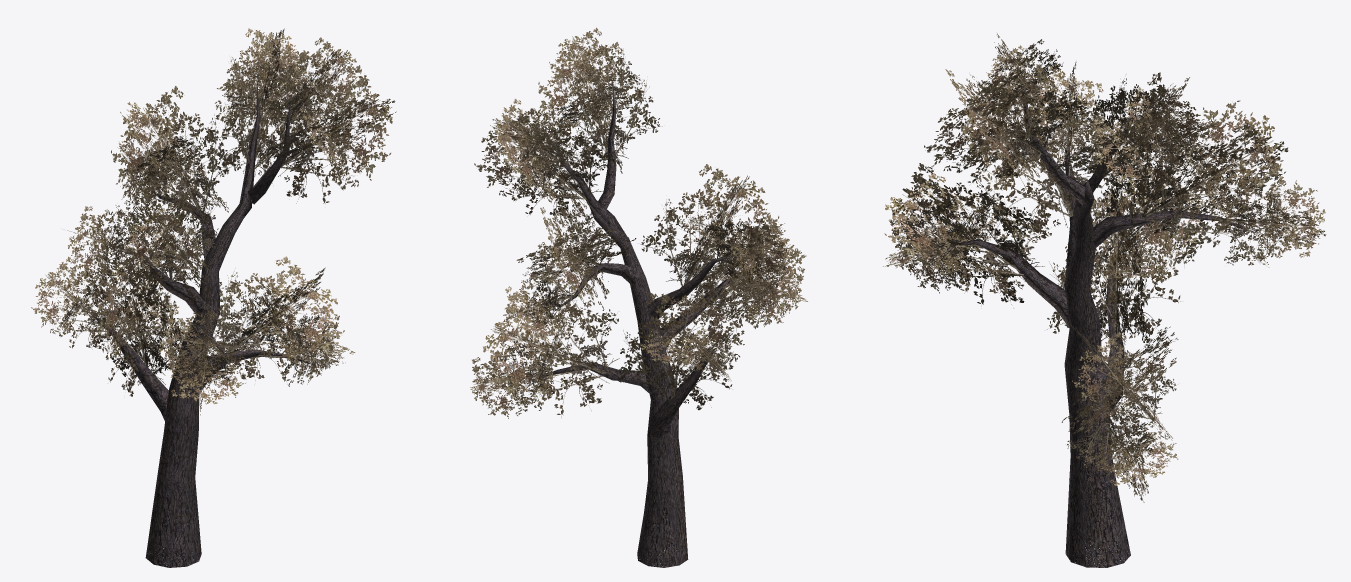
The model's file is tree_02.DAE.
The picture shows the model from 3 angles, left to right: view 1: azimuth 30°, elevation 25°; view 2: azimuth 150°, elevation 25°; view 3: azimuth 270°, elevation 25°; orthographic projection. The views are drawn at different scales.
Visible parts, largest first — view 1: Tree_Leafy_02a, Object002; view 2: Tree_Leafy_02a, Object002; view 3: Tree_Leafy_02a, Object002.
Boxes of the visible parts, bbox=[...] form: Tree_Leafy_02a: bbox=[31, 28, 396, 415]; Object002: bbox=[92, 85, 317, 567]; Tree_Leafy_02a: bbox=[470, 27, 807, 418]; Object002: bbox=[526, 86, 736, 567]; Tree_Leafy_02a: bbox=[883, 33, 1326, 502]; Object002: bbox=[932, 68, 1259, 567].
Size of the model in its own units: 5.78 by 8.6 by 6.23.
